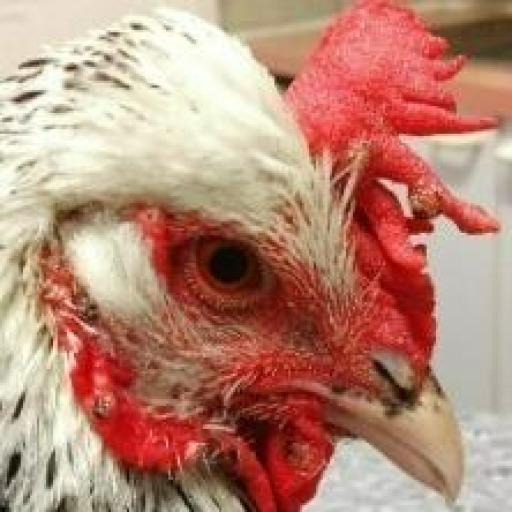disease: (317, 370, 423, 420), (276, 290, 331, 353), (405, 168, 457, 230), (70, 371, 126, 424), (340, 117, 386, 172), (193, 432, 241, 477), (114, 190, 167, 230), (74, 288, 118, 335)
